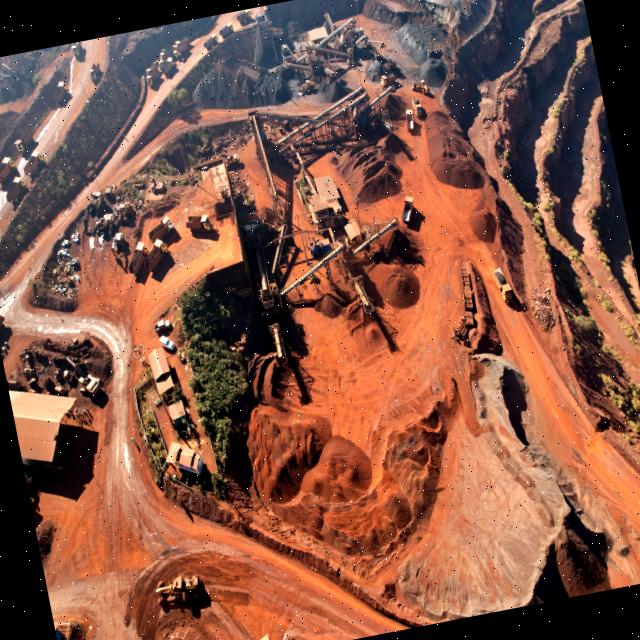Dumper truck: (144, 238, 168, 270), (126, 242, 150, 274), (2, 175, 28, 203), (492, 266, 511, 302), (186, 213, 212, 236), (24, 150, 46, 177), (148, 215, 172, 239), (398, 196, 416, 223), (0, 155, 16, 181), (13, 133, 34, 152), (378, 70, 398, 86), (412, 100, 426, 120), (53, 82, 68, 100), (86, 61, 101, 79), (403, 108, 416, 128), (202, 34, 218, 48), (159, 58, 174, 72), (220, 20, 234, 34), (146, 73, 162, 85), (144, 64, 160, 76), (158, 49, 174, 61), (171, 44, 187, 56), (234, 10, 250, 22), (70, 42, 82, 57), (0, 310, 6, 334)
Excavator: (90, 198, 136, 235), (78, 188, 107, 228), (72, 361, 101, 395), (110, 231, 128, 261), (222, 153, 240, 168)
car: (156, 333, 175, 352), (152, 318, 170, 333)
